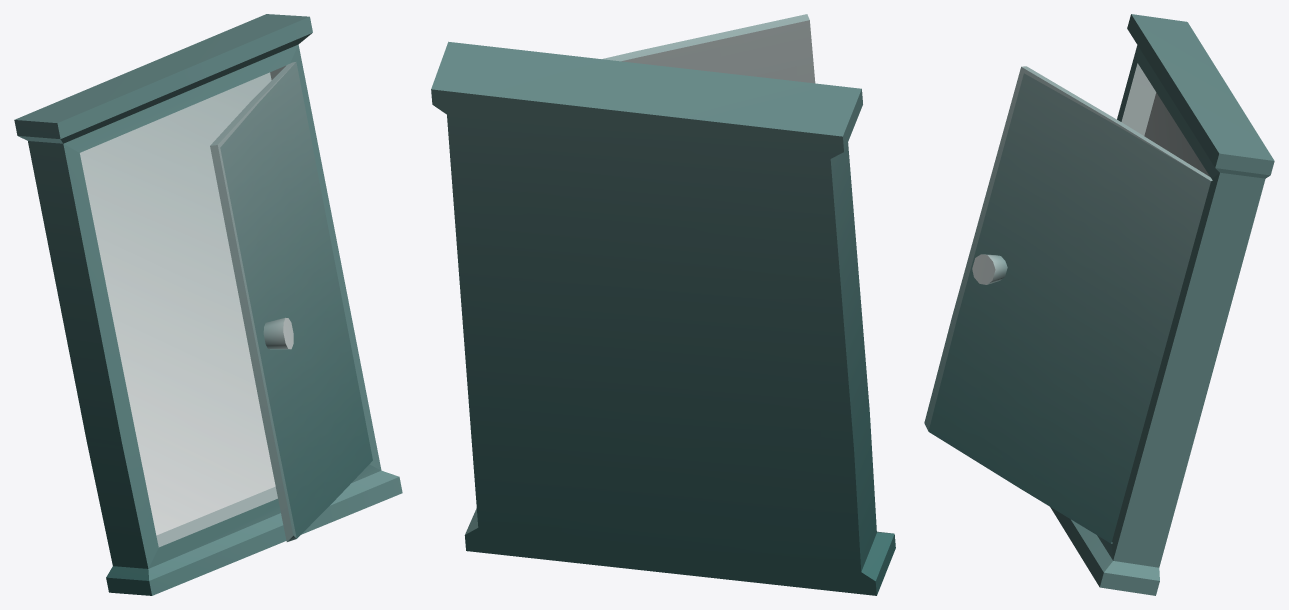
File: Prop_ExitDoor.fbx
The picture shows the model from 3 angles, left to right: view 1: azimuth 30°, elevation 25°; view 2: azimuth 150°, elevation 25°; view 3: azimuth 270°, elevation 25°; orthographic projection. The views are drawn at different scales.
Parts seen in each view (by area): view 1: Door; view 2: Door; view 3: Door.
Part boxes in pixels (left/top/right/bottom): Door: left=14, top=14, right=402, bottom=595; Door: left=431, top=14, right=895, bottom=595; Door: left=924, top=14, right=1274, bottom=595.
Size of the model in its own units: 17 by 21.48 by 15.72.
